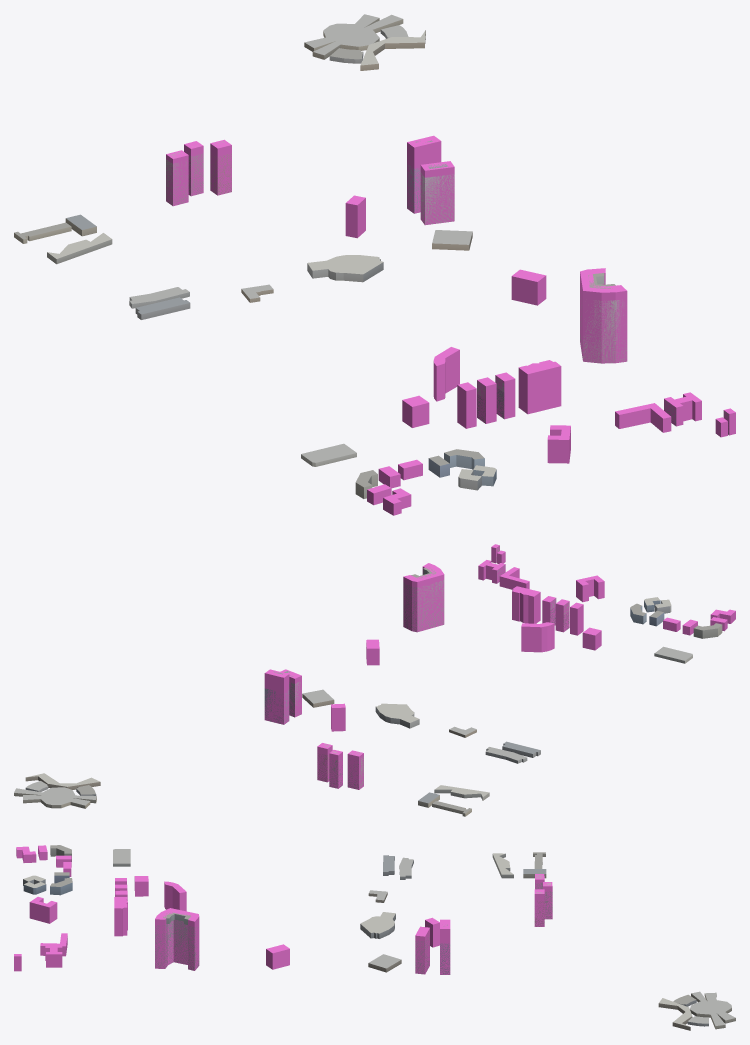
Rendered from bld_11_2.fbx.
3 views of the same model, one above another, from view 1: azimuth 30°, elevation 25°; view 2: azimuth 150°, elevation 25°; view 3: azimuth 270°, elevation 25° (orthographic). The views are drawn at different scales.
Parts seen in each view (by area): view 1: bld_11_2_COL, bld_11_2_LOD0; view 2: bld_11_2_COL, bld_11_2_LOD0; view 3: bld_11_2_COL, bld_11_2_LOD0.
Part boxes in pixels (x1,y1,x2,y2): bld_11_2_COL: [166, 135, 735, 515]; bld_11_2_LOD0: [14, 14, 728, 498]; bld_11_2_COL: [264, 544, 735, 789]; bld_11_2_LOD0: [14, 547, 722, 816]; bld_11_2_COL: [14, 845, 552, 974]; bld_11_2_LOD0: [23, 845, 735, 1030].
Size of what is drawn, in the model's own units: 1167 by 150 by 1988.
